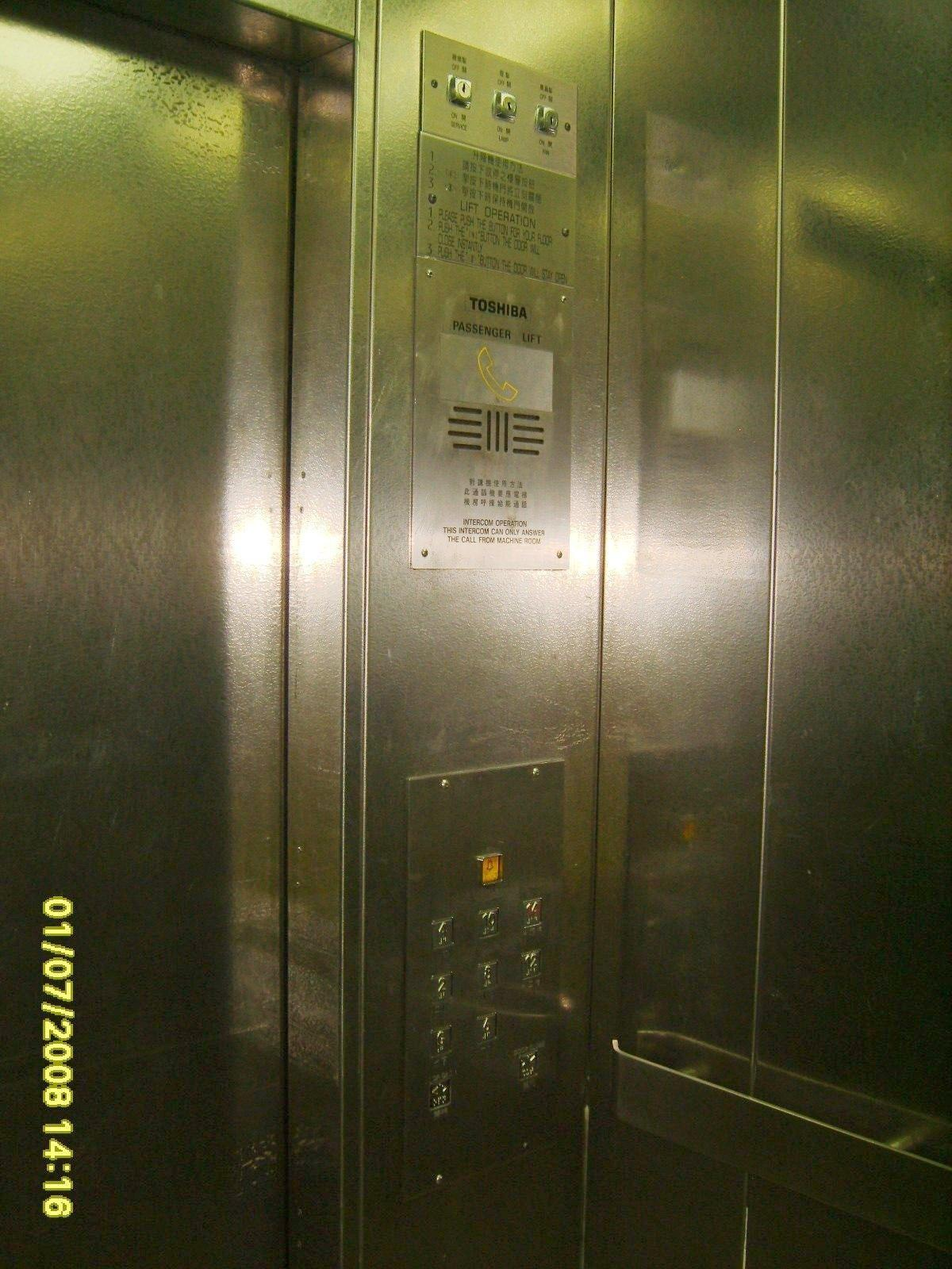1: (428, 1020, 457, 1064)
10: (473, 901, 502, 945)
12: (516, 947, 548, 987)
14: (516, 891, 547, 932)
2: (428, 965, 457, 1009)
4: (428, 914, 458, 957)
6: (473, 1007, 502, 1051)
8: (474, 954, 503, 998)
alarm: (472, 849, 507, 888)
close: (513, 1049, 543, 1080)
keyhole: (443, 71, 477, 111), (488, 87, 520, 125), (530, 105, 563, 140)
open: (424, 1072, 454, 1115)
